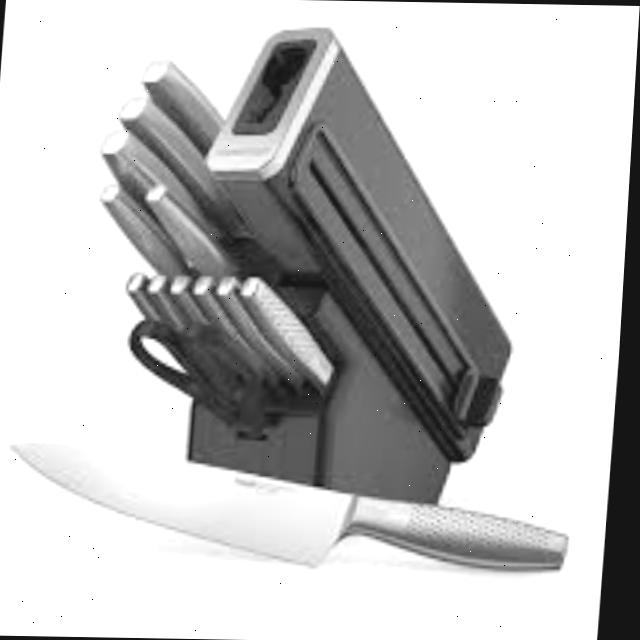Knife: (6, 440, 581, 572)
